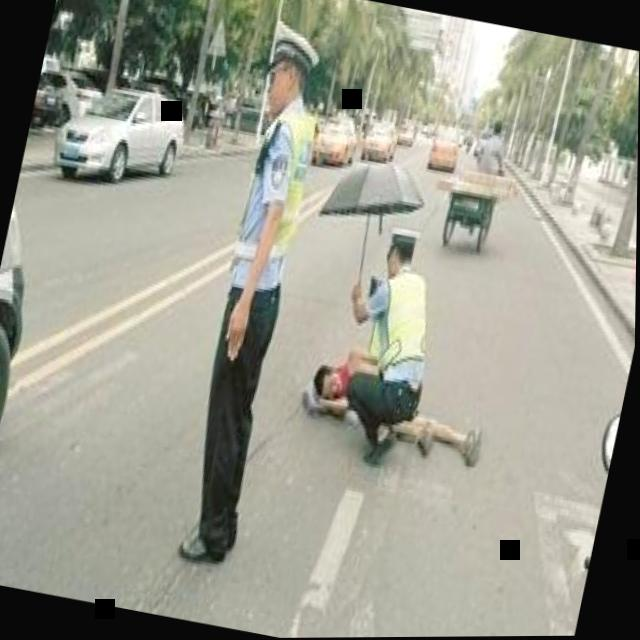Fall-Detected: (281, 319, 498, 487)
